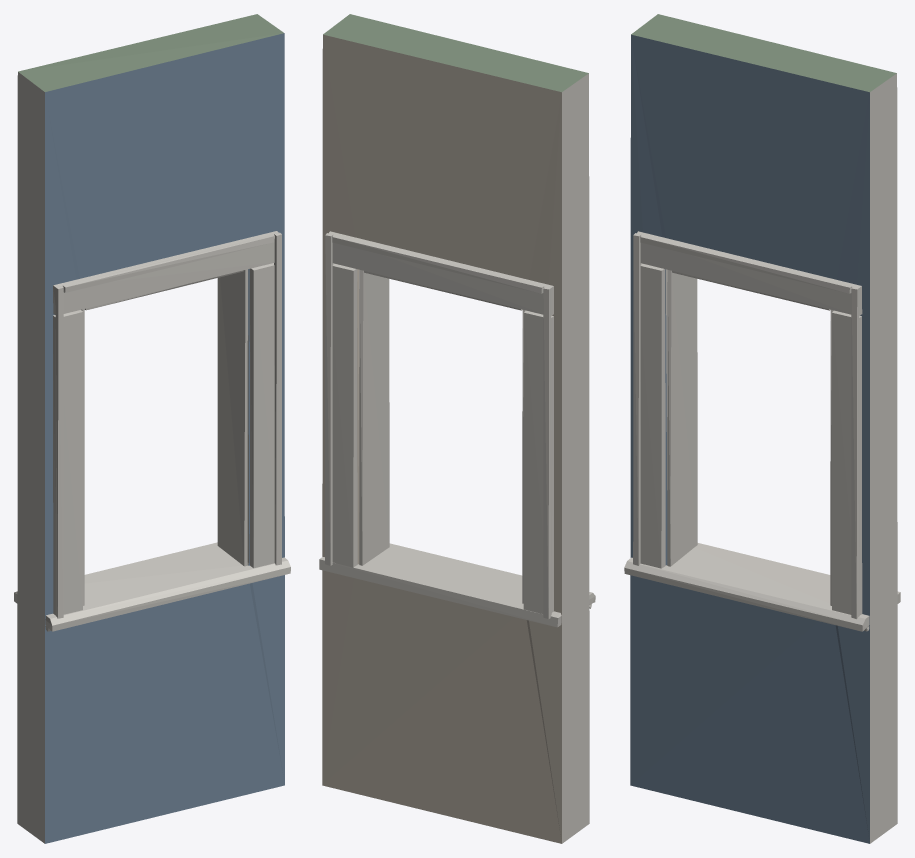
File: SM_Kit_Wall_Window_LOD2.glb
3 renders of one model, left to right at view 1: azimuth 30°, elevation 25°; view 2: azimuth 150°, elevation 25°; view 3: azimuth 330°, elevation 25°, orthographic.
Visible parts, largest first — view 1: SM_Kit_Wall_Window_LOD2; view 2: SM_Kit_Wall_Window_LOD2; view 3: SM_Kit_Wall_Window_LOD2.
Part boxes in pixels (x1,y1,x2,y2): SM_Kit_Wall_Window_LOD2: (14, 14, 290, 843); SM_Kit_Wall_Window_LOD2: (319, 14, 595, 843); SM_Kit_Wall_Window_LOD2: (624, 14, 900, 843).
Size of the model in its own units: 1 by 3 by 0.2852.
